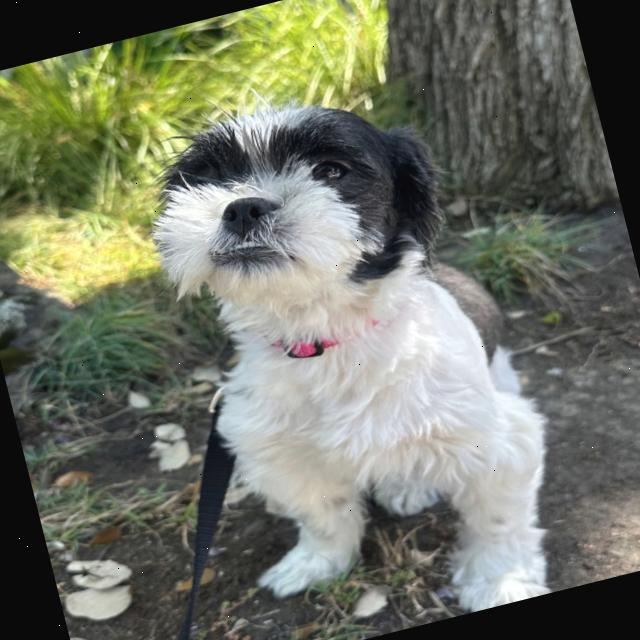shih_tzu_dog: (99, 54, 488, 388)
